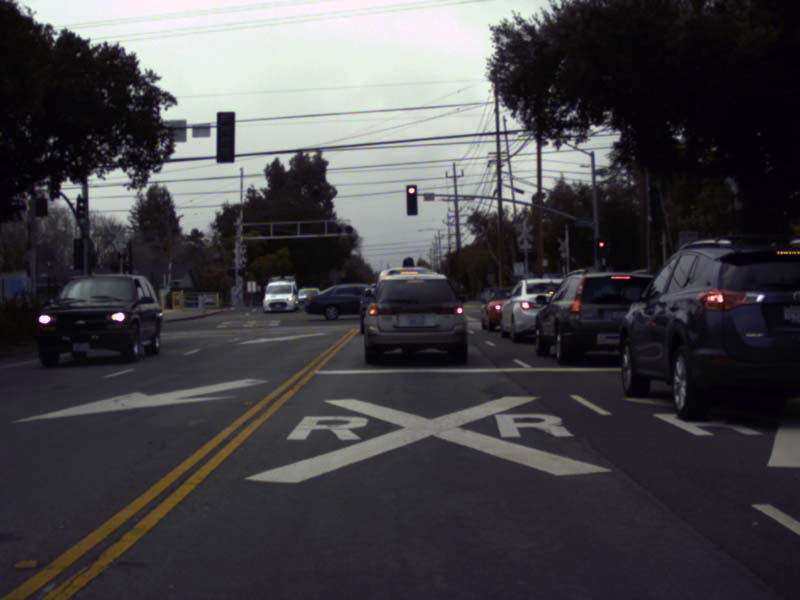Red: (406, 185, 418, 214), (595, 239, 608, 259)
